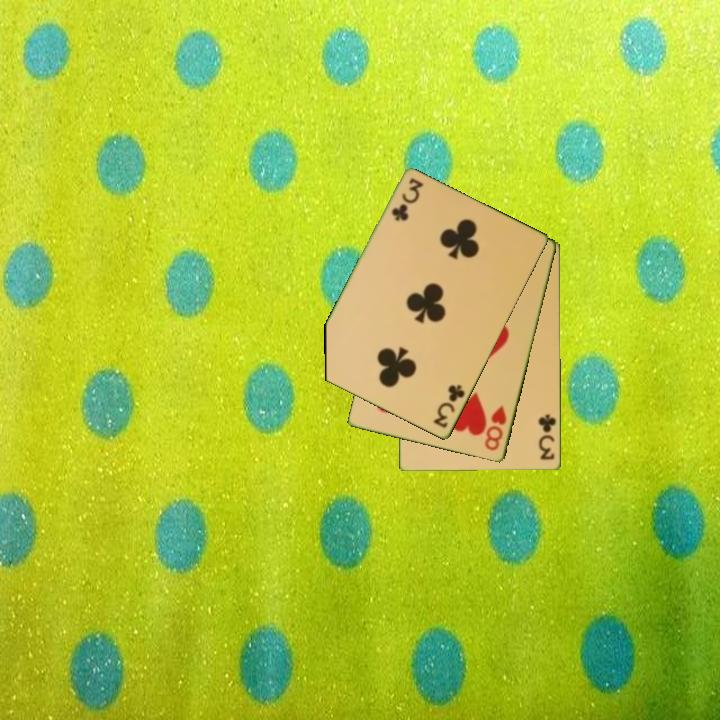3c: (430, 381, 468, 431), (388, 174, 425, 225), (535, 411, 559, 463)
8h: (481, 403, 510, 454)
